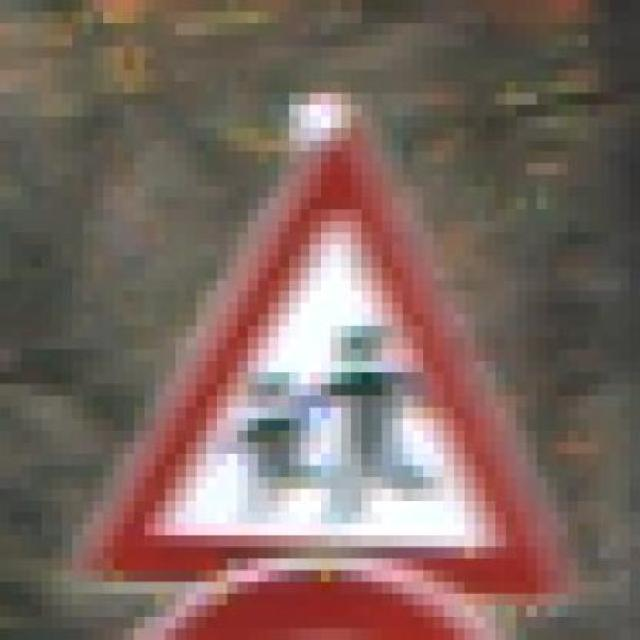Beware of children: (61, 81, 568, 605)
